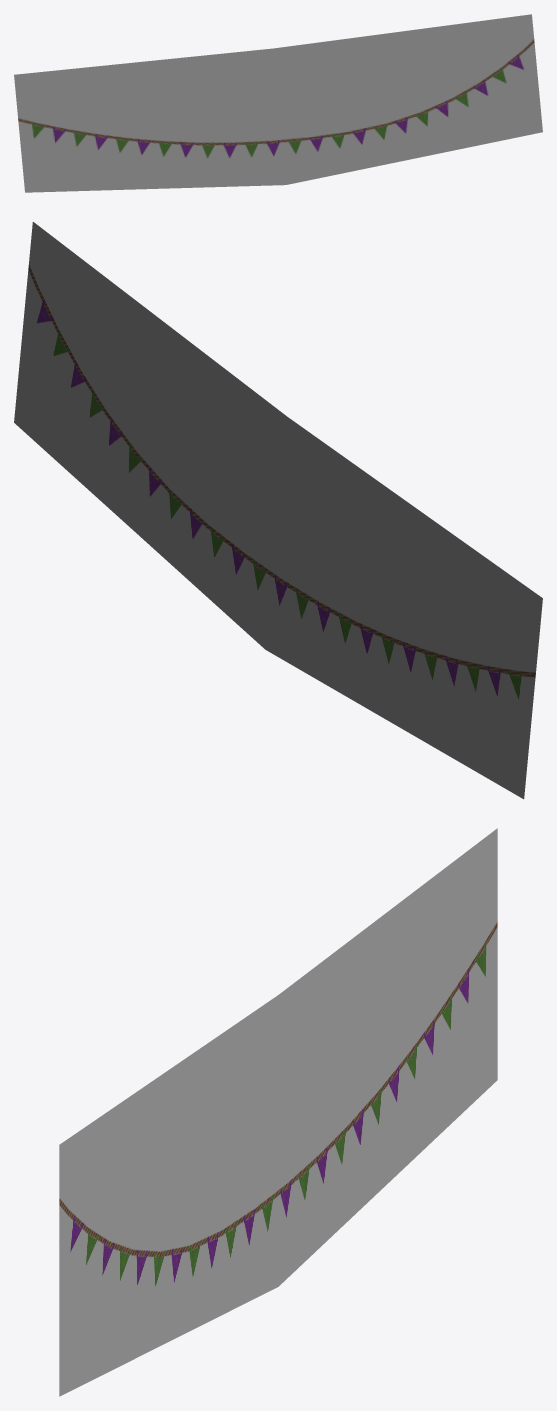
3 renders of one model, top to bottom at view 1: azimuth 30°, elevation 25°; view 2: azimuth 150°, elevation 25°; view 3: azimuth 270°, elevation 25°, orthographic. The views are drawn at different scales.
Parts seen in each view (by area): view 1: SM_garland003__1_; view 2: SM_garland003__1_; view 3: SM_garland003__1_.
Part boxes in pixels (x1,y1,x2,y2): SM_garland003__1_: (14,14,542,192); SM_garland003__1_: (14,222,542,799); SM_garland003__1_: (59,828,497,1396).
Size of the model in its own units: 736 by 276 by 333.
